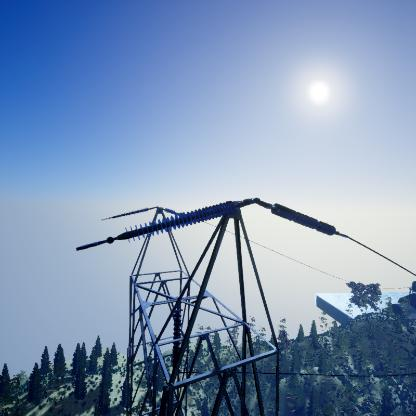insulator: (122, 200, 238, 245), (270, 202, 337, 237), (171, 307, 183, 369), (111, 206, 150, 220)
